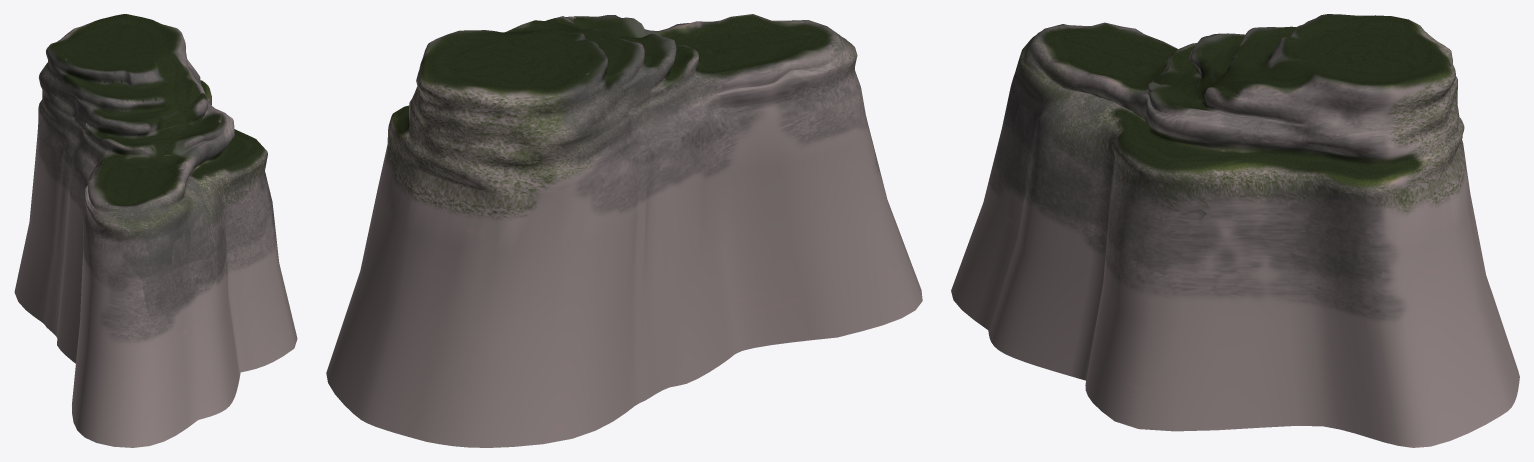
Rendered from SM_Island5_L.fbx.
3 renders of one model, left to right at view 1: azimuth 30°, elevation 25°; view 2: azimuth 150°, elevation 25°; view 3: azimuth 270°, elevation 25°, orthographic. The views are drawn at different scales.
Parts seen in each view (by area): view 1: Island5; view 2: Island5; view 3: Island5.
Part boxes in pixels (x1=…): Island5: x1=14, y1=14, x2=297, y2=447; Island5: x1=326, y1=14, x2=922, y2=447; Island5: x1=951, y1=14, x2=1519, y2=447.
Size of the model in its own units: 2356 by 1955 by 3109.
1 material, 1 textured.
